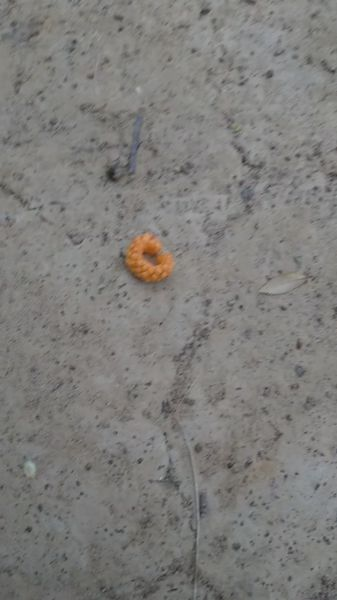eggs: (122, 223, 181, 286)
